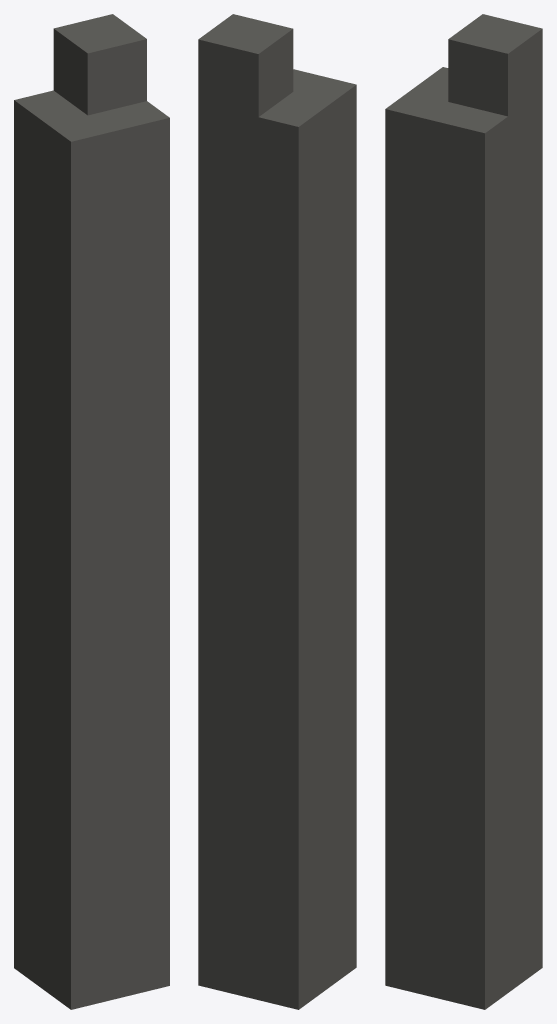
File: plinth_corner.glb
3 renders of one model, left to right at view 1: azimuth 30°, elevation 25°; view 2: azimuth 150°, elevation 25°; view 3: azimuth 330°, elevation 25°, orthographic.
Visible parts, largest first — view 1: plinth_corner; view 2: plinth_corner; view 3: plinth_corner.
Part boxes in pixels (<box>): plinth_corner: <box>14,14,169,1009</box>; plinth_corner: <box>198,14,356,1009</box>; plinth_corner: <box>385,14,542,1009</box>.
Size of the model in its own units: 0.05 by 0.45 by 0.05.
1 material, 1 textured.
